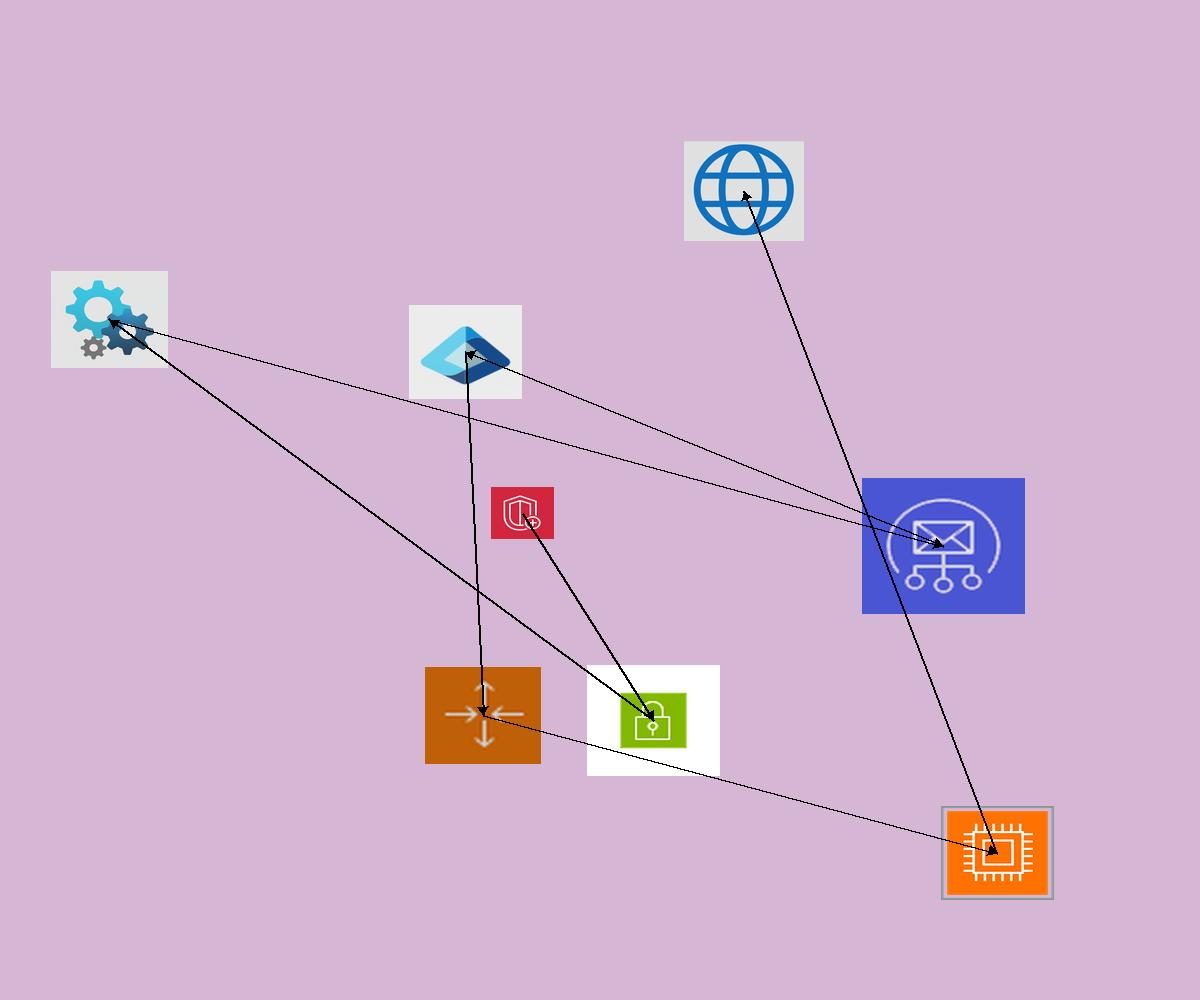AWS-Category_Compute: (941, 806, 1054, 900)
AWS-Public-subnet: (587, 665, 720, 776)
AWS-Scaling-group: (425, 667, 541, 764)
AWS-Shield: (491, 487, 554, 539)
AWS-Simple-Email-Service: (862, 478, 1025, 614)
Azure_api: (51, 271, 168, 368)
Azure_http: (684, 141, 804, 241)
Azure_microsoft_entra: (409, 305, 522, 399)
